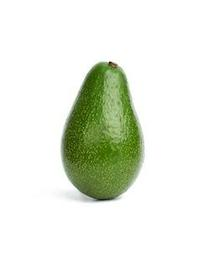avocado: (60, 60, 145, 201)
